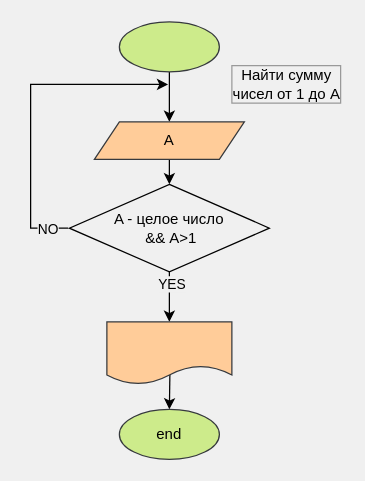
The diagram is 365 pixels wide and 481 high, and some of its shapes have lost their labels. The box of each missing label's shape, as (x1, y1, x2, y2) in pixels:
A*(A+1)/2: (106, 321, 232, 384)
start: (118, 21, 219, 72)
